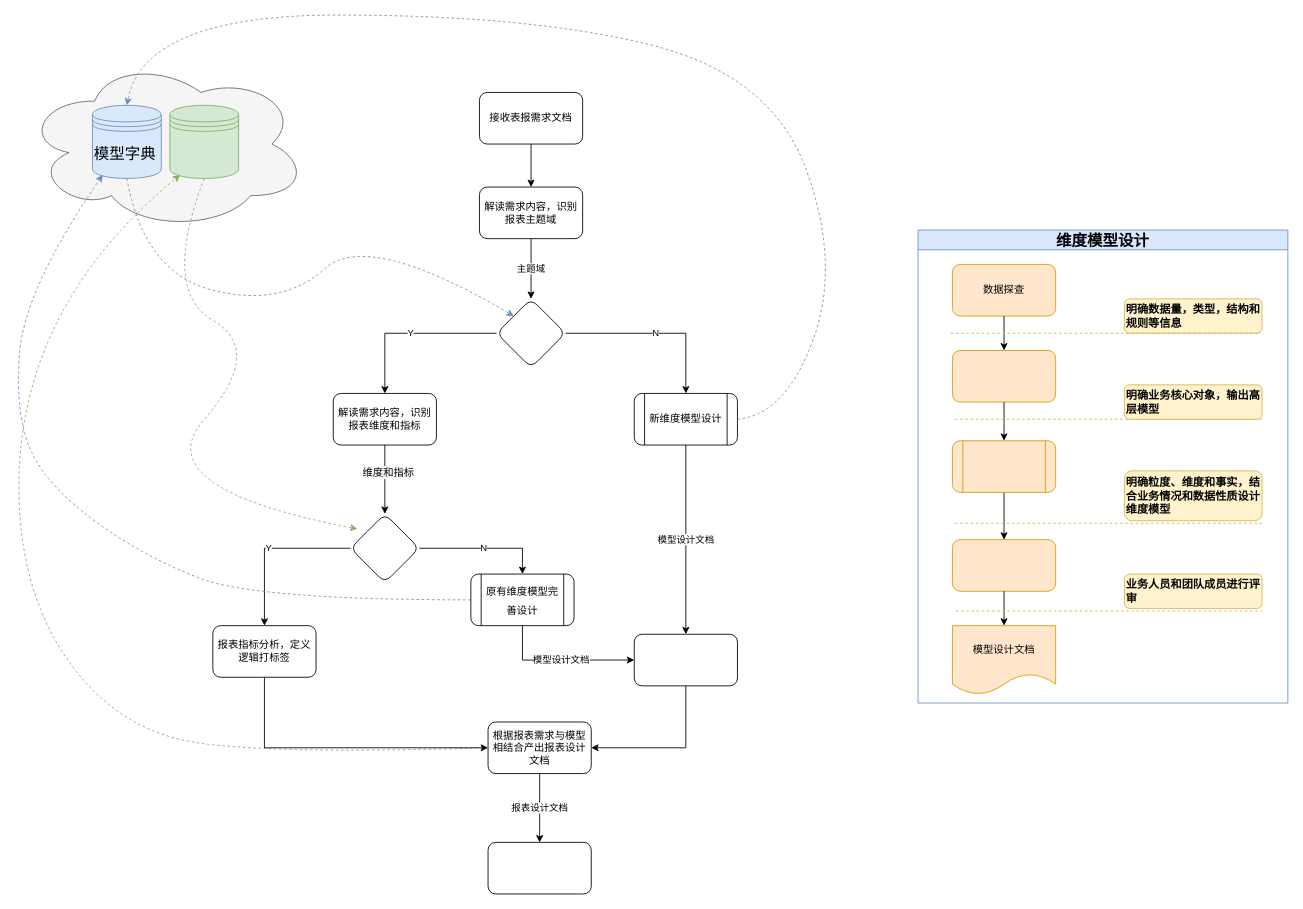
The diagram is 1303 pixels wide and 909 high, and some of its shapes have lost their labels. The shapes that lost their labels are listed below. From the top down, each one's centre as x and y in pixels, then its label:
the point at 204,141: 报表字典
the point at 530,333: 主题域与现有维度模型是否满足
the point at 1004,376: 高层模型设计
the point at 1004,466: 详细模型设计
the point at 384,548: 维度和指标在原有维度模型中能否满足
the point at 1004,565: 维度模型审查与验证
the point at 685,659: 维度模型开发
the point at 539,868: 根据设计文档开发报表的数据集
